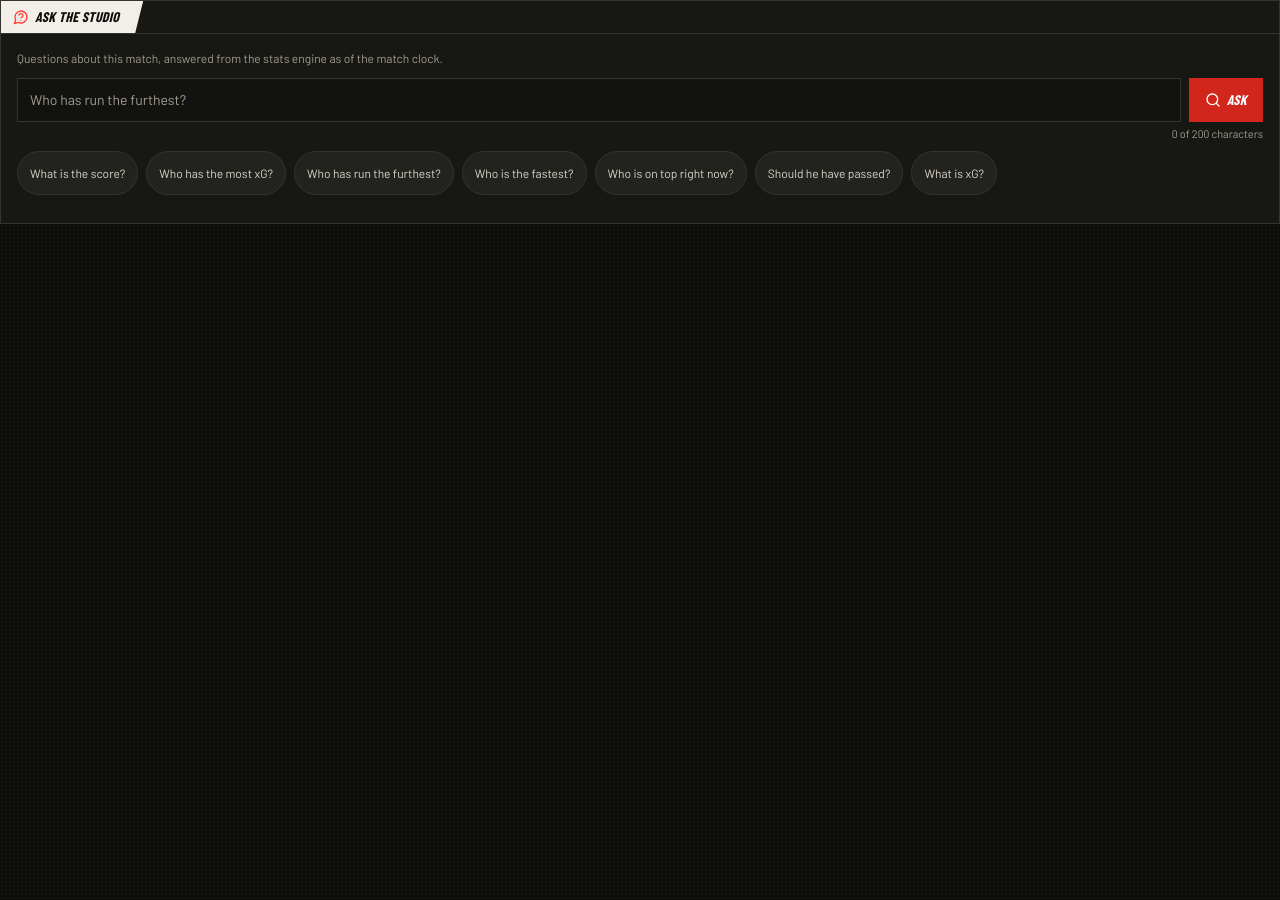
Test: AskStudio › "how we know" opens the claim audit for the cited moment
Click the button "Who has the most xG?": x=216, y=172 [146,150,286,194]
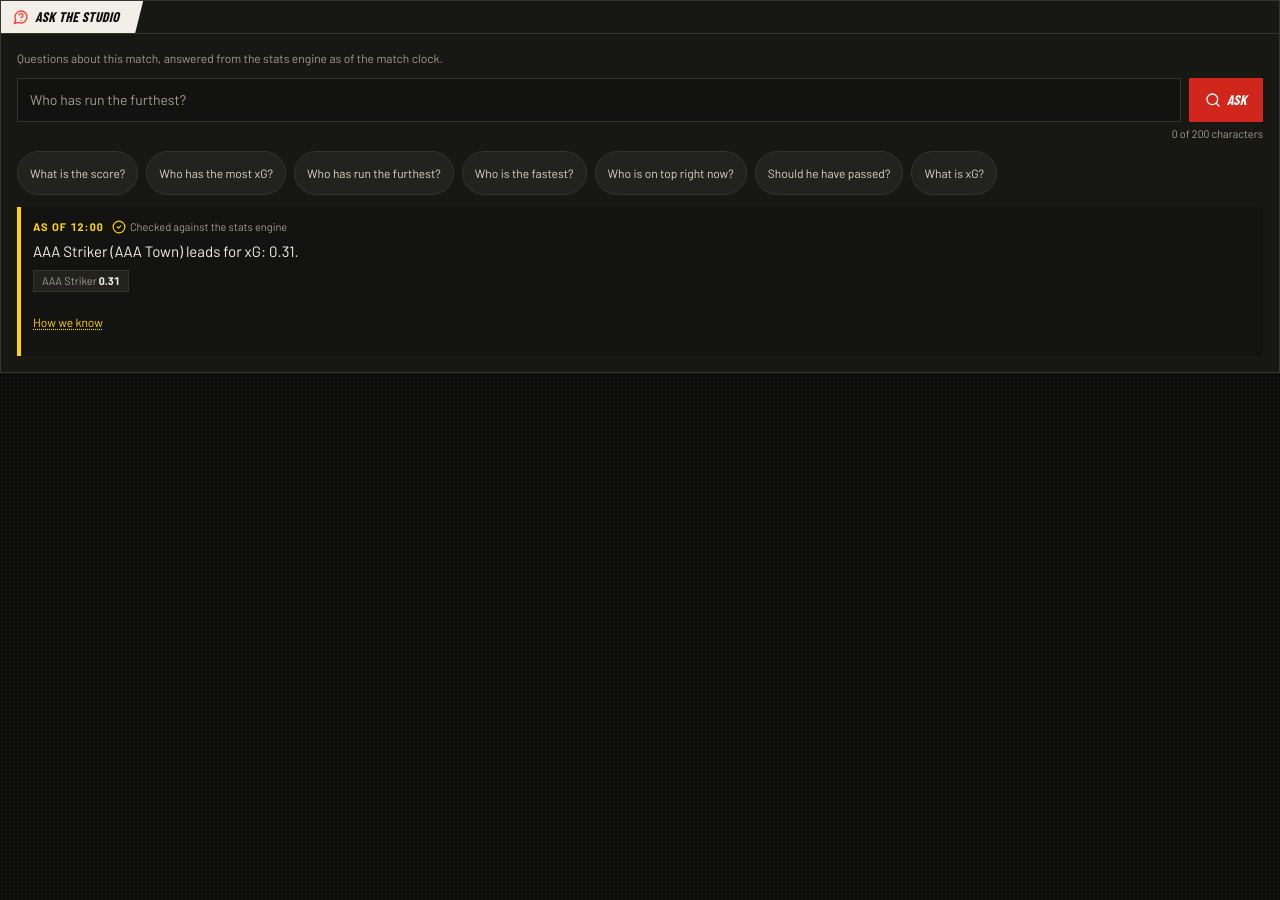
Click the button "How we know": x=68, y=322 [33,300,103,344]
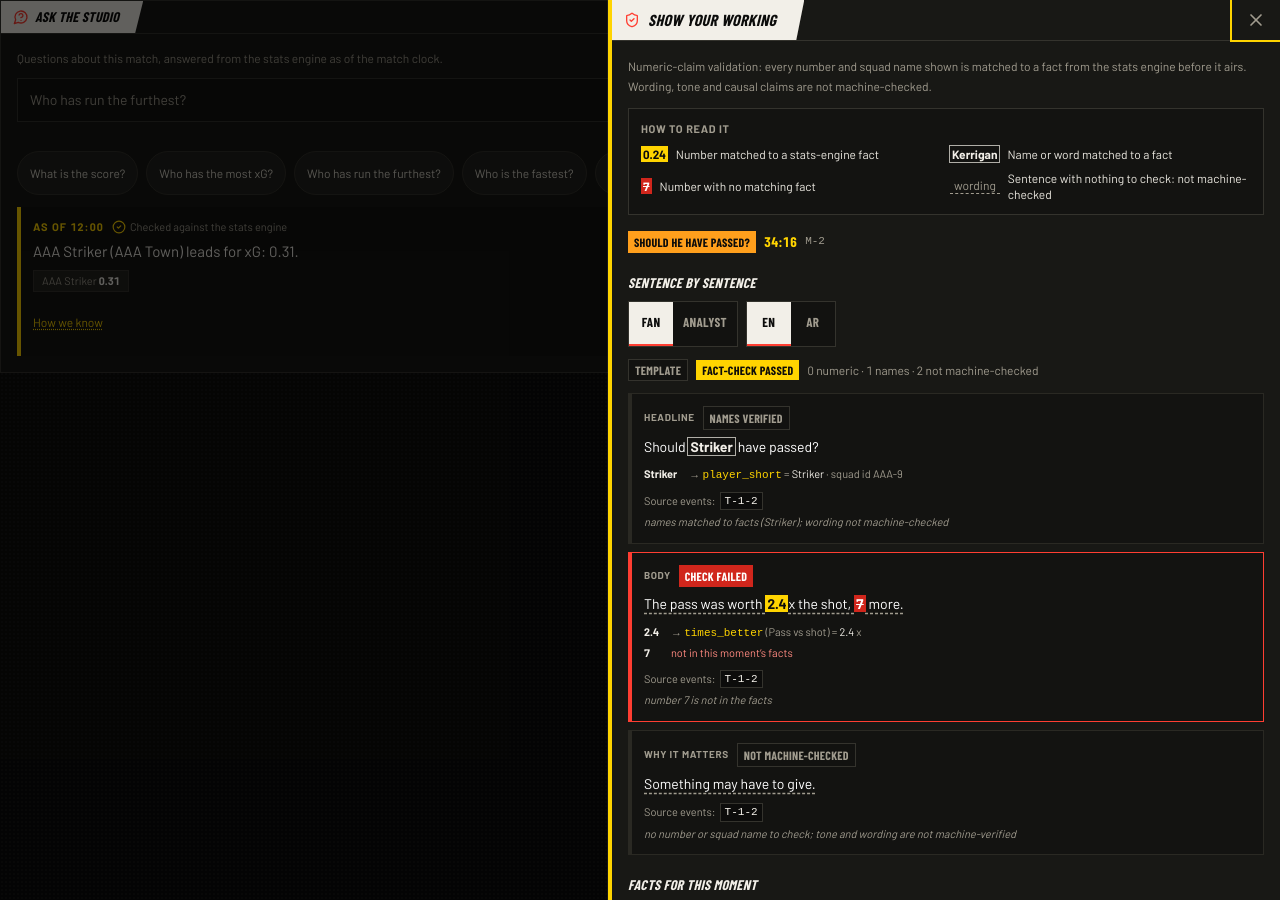
Now the dialog is shown, box [608,0,1279,899]
